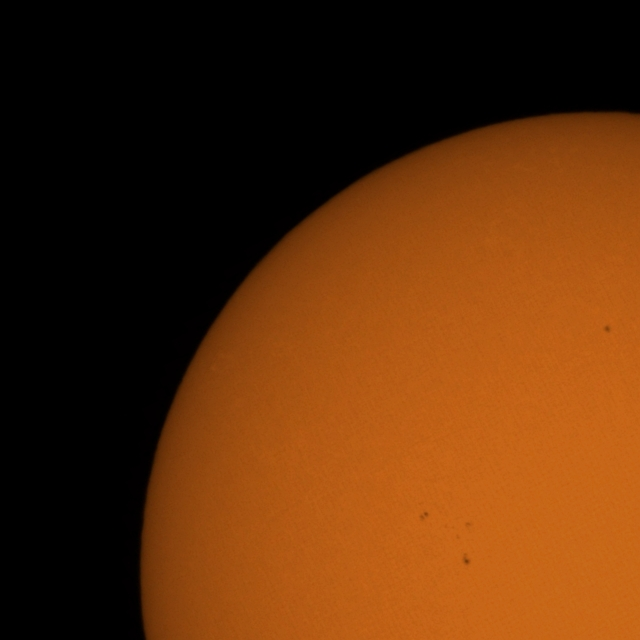sunspot: (447, 520, 472, 542), (418, 510, 429, 522), (462, 552, 471, 566), (603, 324, 612, 334)
